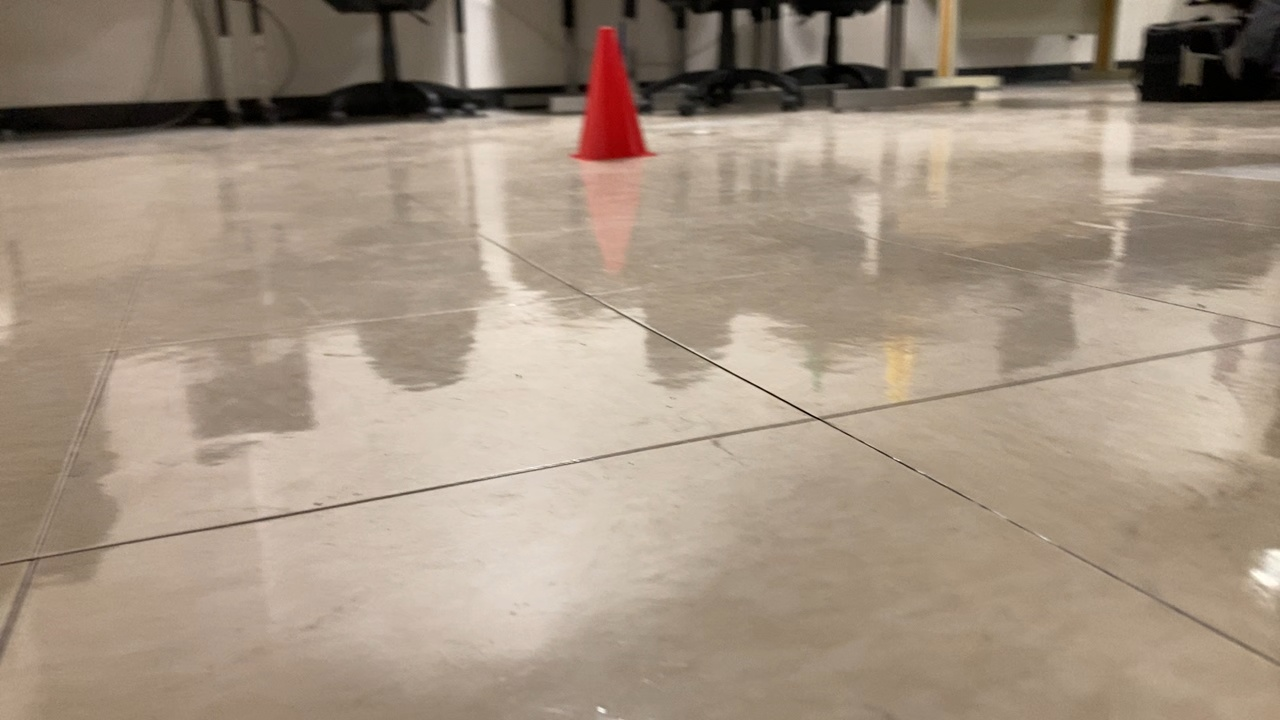red_cone: (565, 24, 659, 170)
